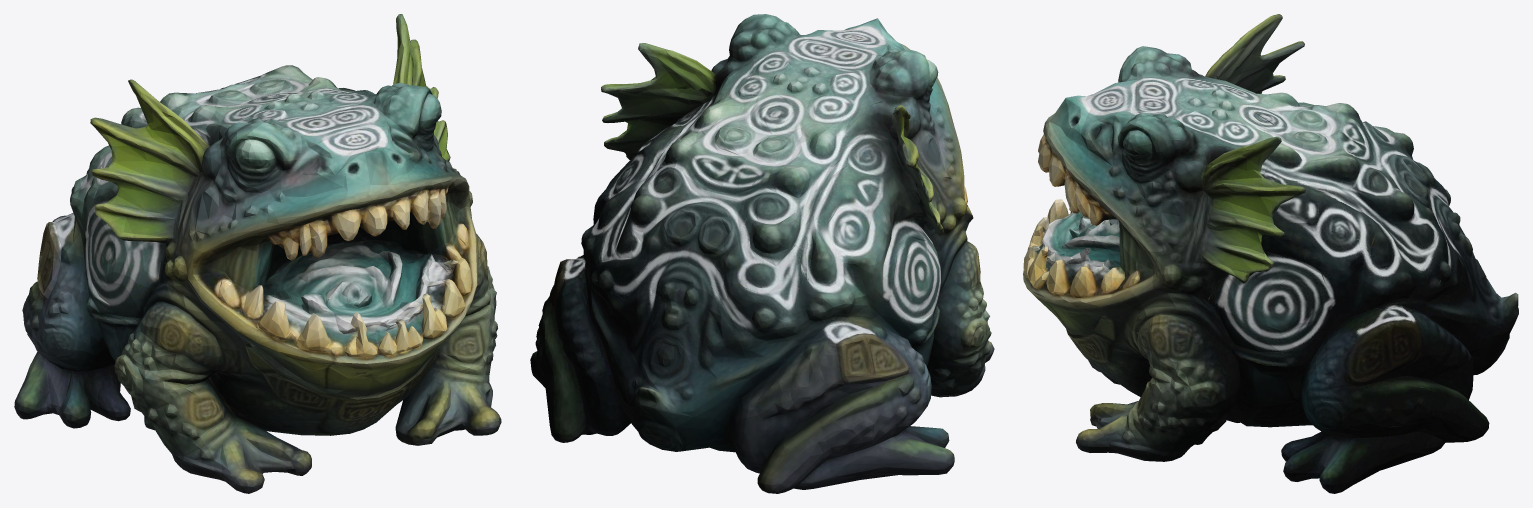
The model's file is mawdeep__whirlmaw.glb.
3 renders of one model, left to right at view 1: azimuth 30°, elevation 25°; view 2: azimuth 150°, elevation 25°; view 3: azimuth 270°, elevation 25°, orthographic. The views are drawn at different scales.
Parts seen in each view (by area): view 1: world; view 2: world; view 3: world.
Part boxes in pixels (x1=…): world: x1=14, y1=14, x2=501, y2=493; world: x1=530, y1=14, x2=994, y2=493; world: x1=1023, y1=14, x2=1518, y2=493.
Bounding box in the file's own units: 0.9619 × 0.728 × 1.
1 material, 1 textured.
